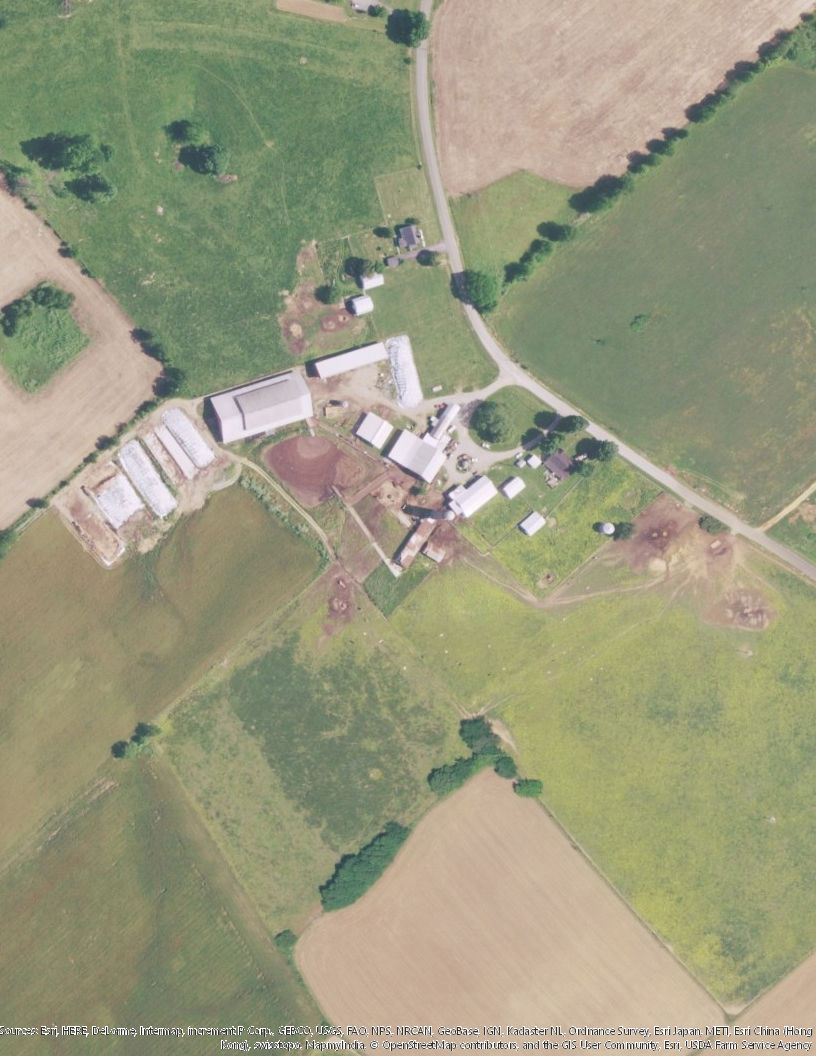cafo: (200, 363, 313, 448), (382, 398, 478, 483), (311, 340, 391, 381), (439, 473, 501, 525), (353, 411, 396, 452)
